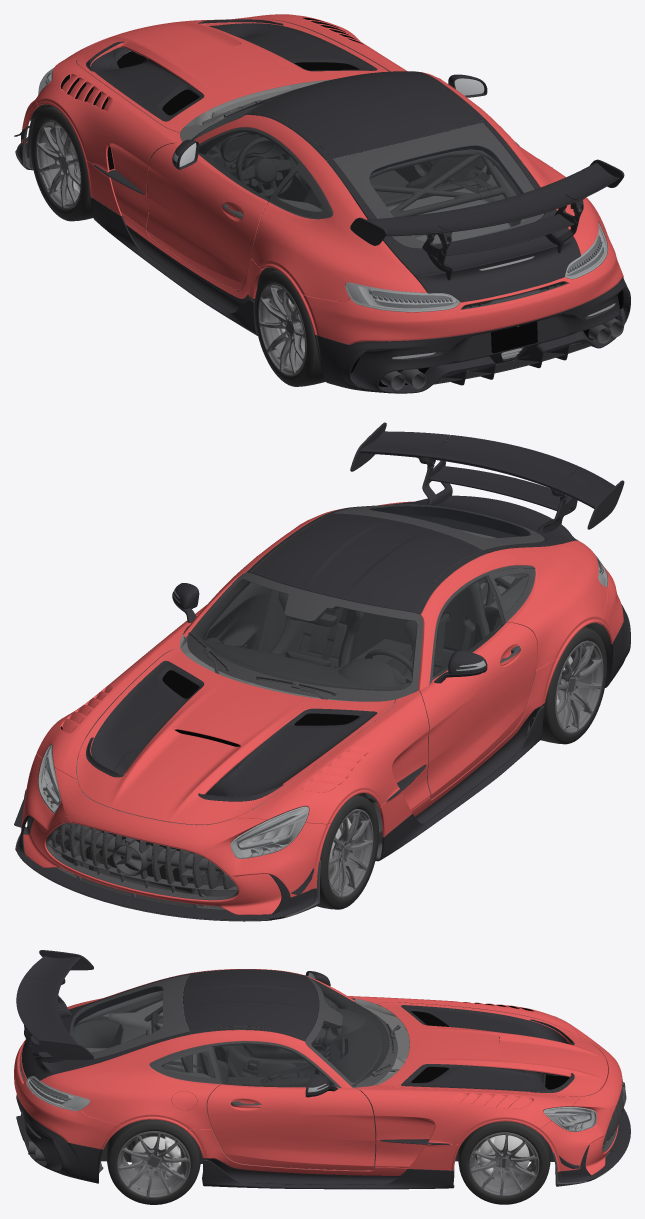
Rendered from amg_gtbs.glb.
The picture shows the model from 3 angles, top to bottom: view 1: azimuth 30°, elevation 25°; view 2: azimuth 150°, elevation 25°; view 3: azimuth 270°, elevation 25°; orthographic projection. The views are drawn at different scales.
Visible parts, largest first — view 1: Body, Wheel_RL, Wheel_FL, SteeringWheel; view 2: Body, Wheel_RL, Wheel_FL; view 3: Body, Wheel_RR, Wheel_FR, Caliper_RR, Caliper_FR.
Part boxes in pixels (x1,y1,x2,y2): Body: (14, 14, 630, 393); Wheel_RL: (254, 269, 325, 386); Wheel_FL: (30, 106, 93, 221); SteeringWheel: (236, 137, 294, 197); Body: (14, 422, 630, 921); Wheel_RL: (534, 626, 607, 744); Wheel_FL: (316, 794, 378, 909); Body: (14, 950, 630, 1189); Wheel_RR: (107, 1119, 200, 1204); Wheel_FR: (458, 1121, 550, 1204); Caliper_RR: (165, 1136, 181, 1178); Caliper_FR: (477, 1136, 494, 1179).
Size of the model in its own units: 2.09 by 1.31 by 4.63.
